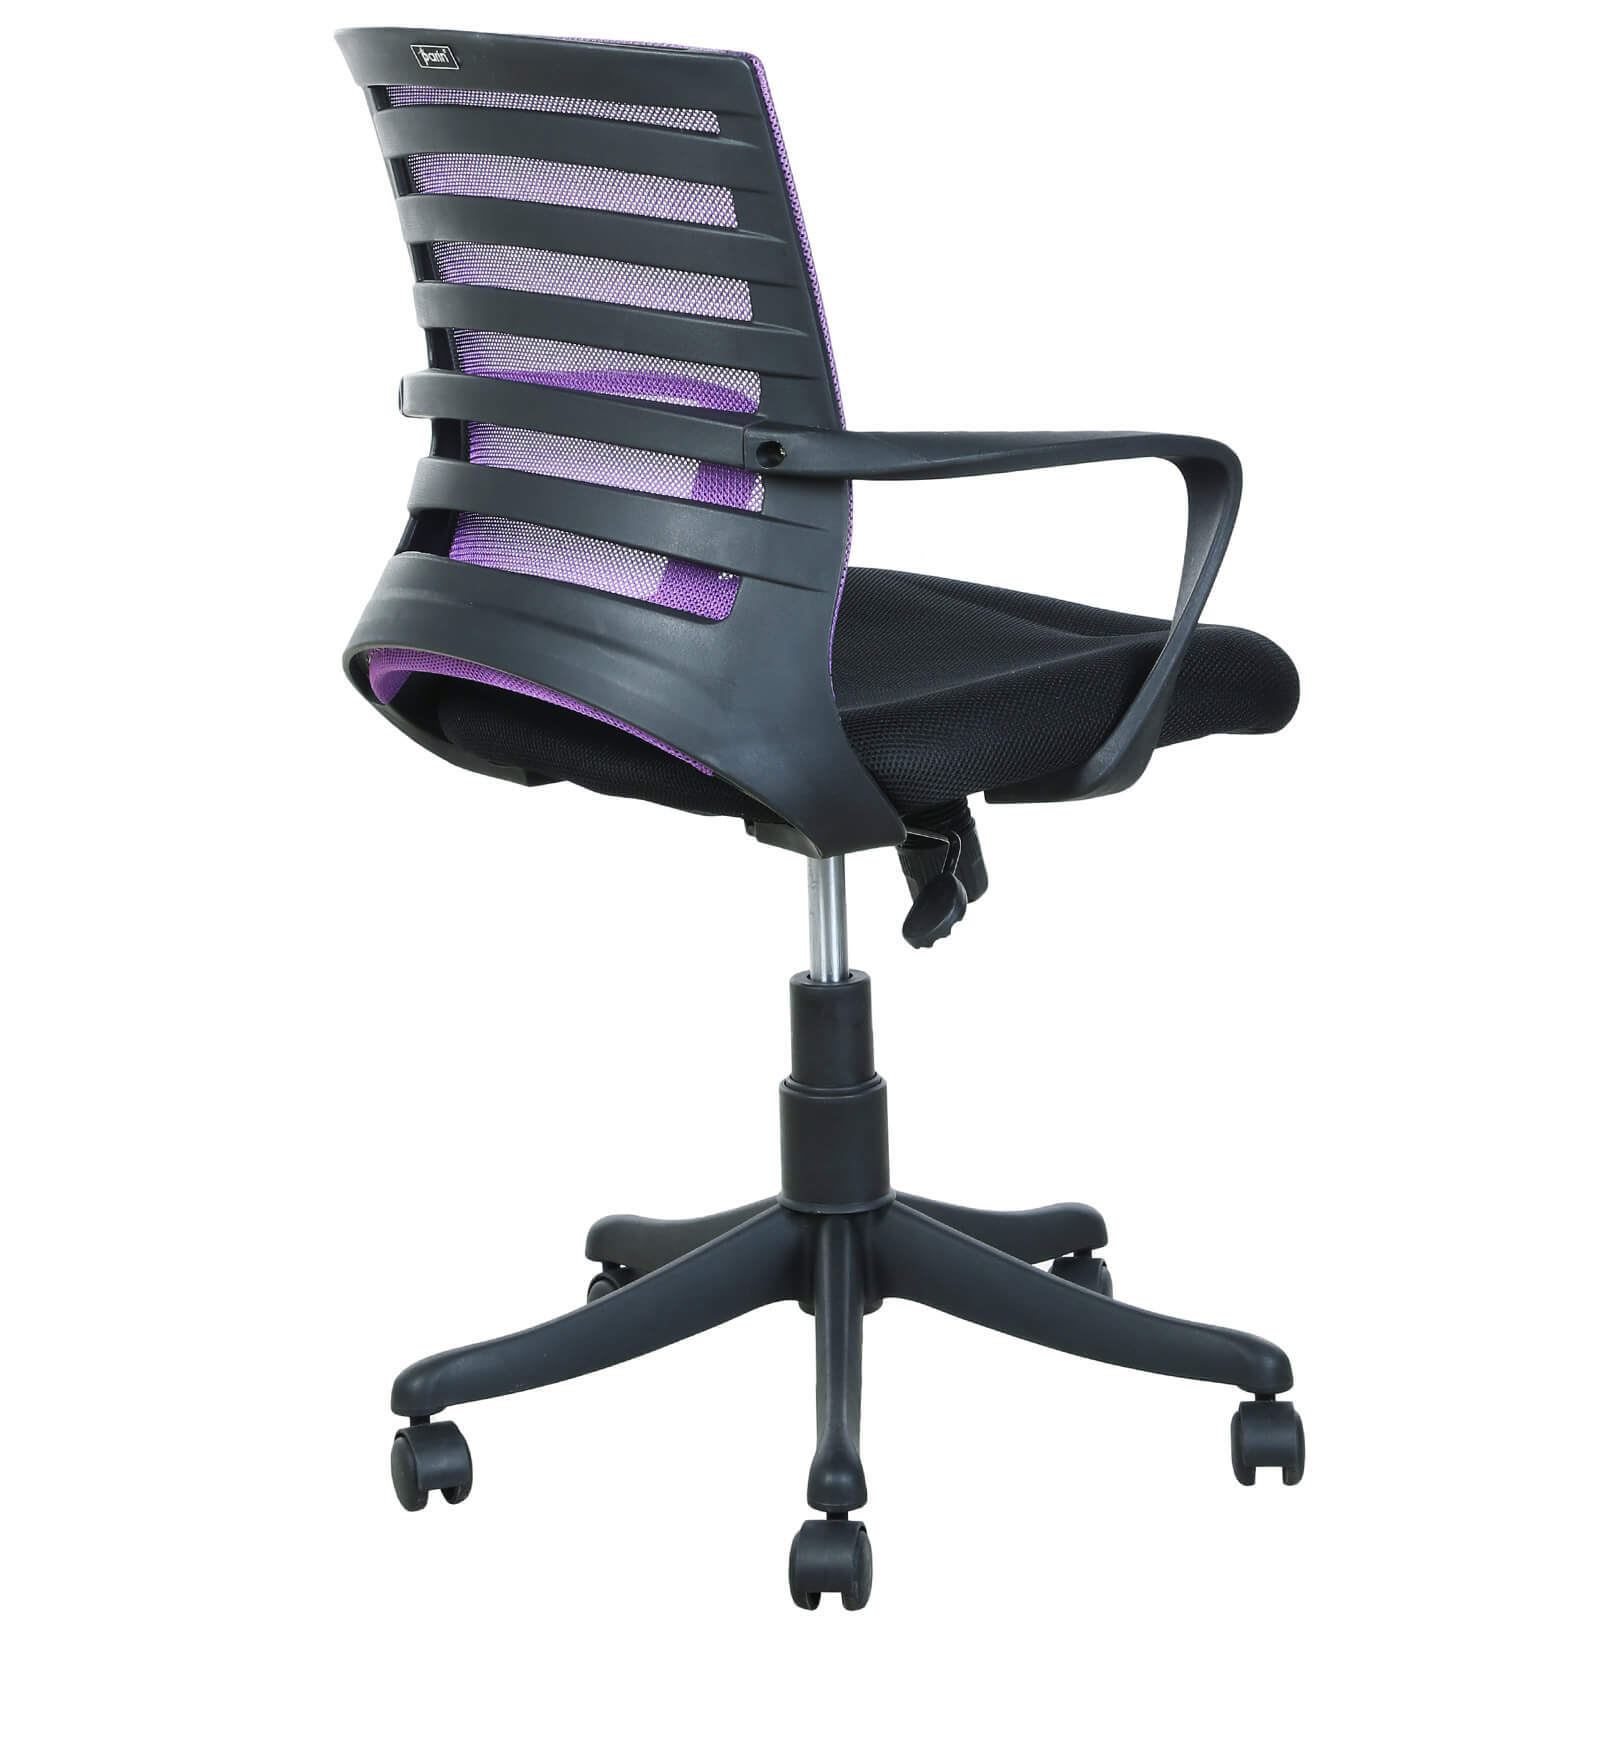Trendy Ergonomic Chair in Purple Colour by Parin: (270, 29, 1404, 1633)
